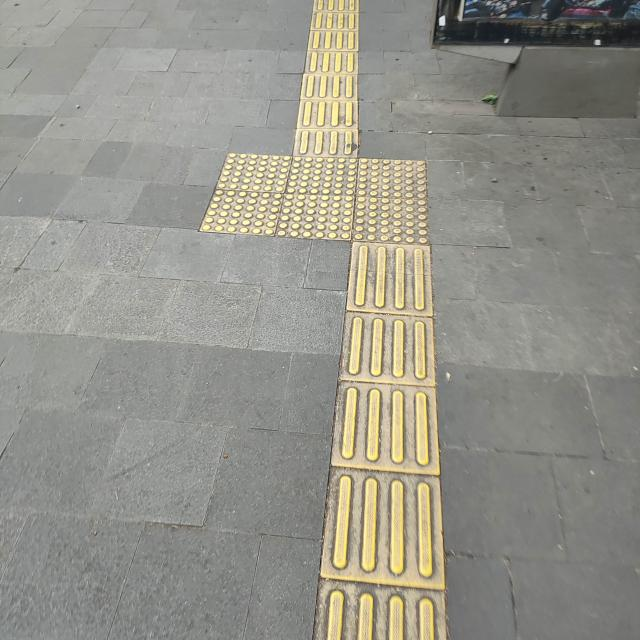lurus: (328, 238, 444, 640), (293, 0, 357, 140)
